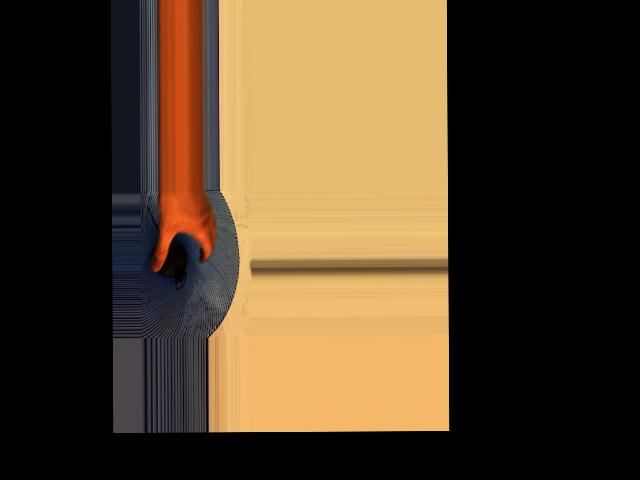beet: (146, 206, 187, 290)
